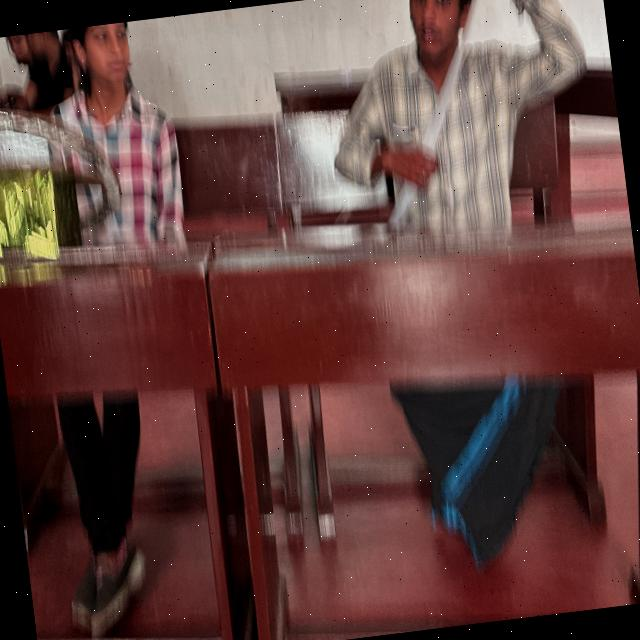seatbelt: (286, 28, 558, 269), (5, 70, 210, 275)
